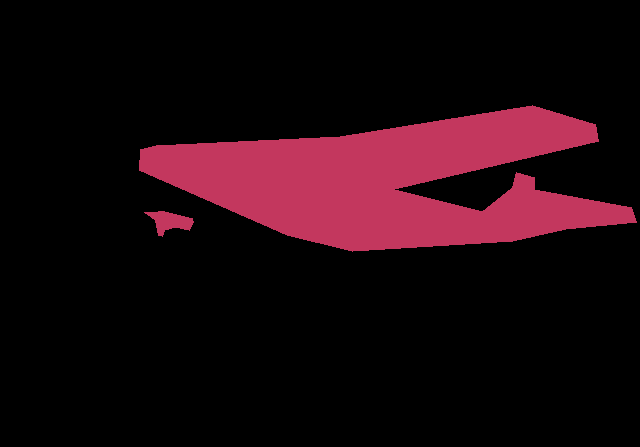Airplane: (139, 105, 636, 251), (144, 211, 193, 236)
